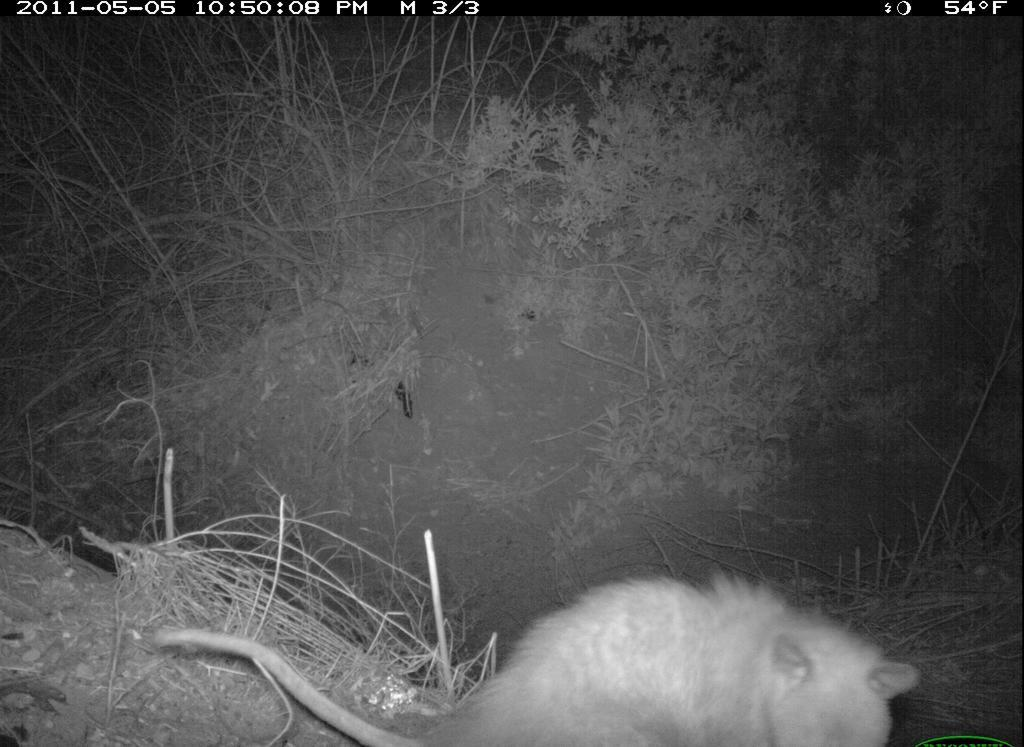opossum: (146, 559, 930, 747)
